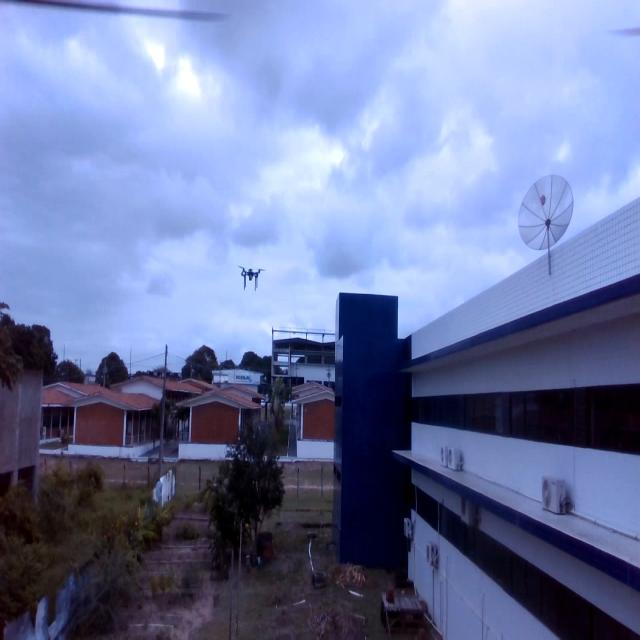-uav-: (234, 258, 268, 296)
